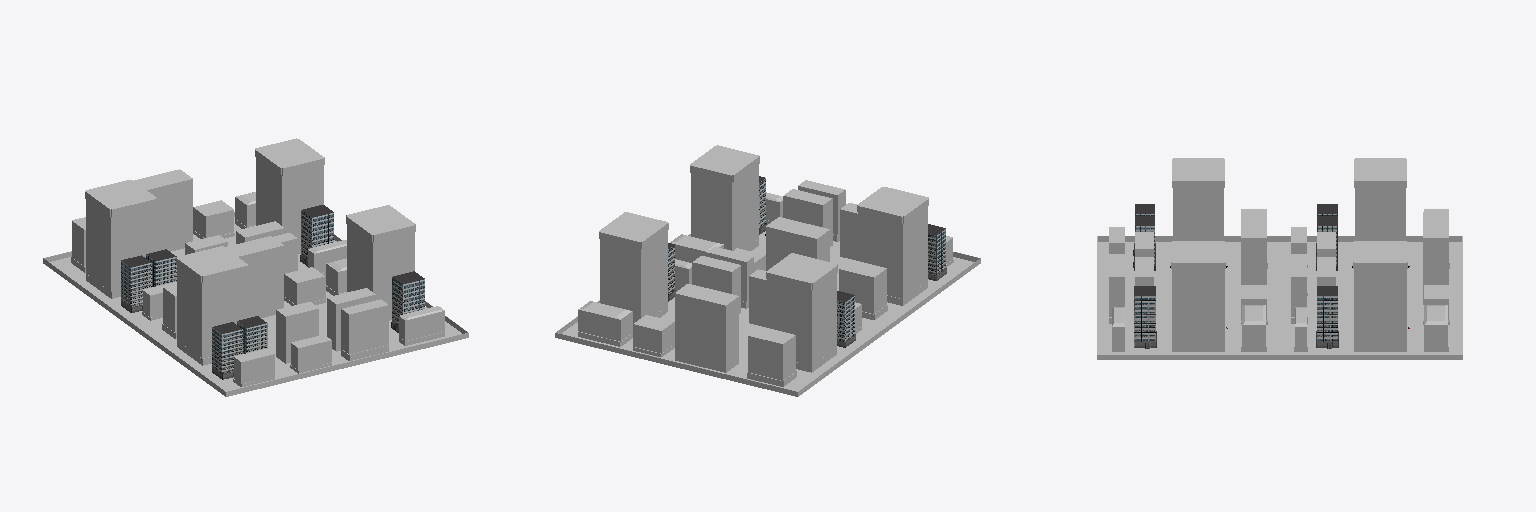
3 renders of one model, left to right at view 1: azimuth 30°, elevation 25°; view 2: azimuth 150°, elevation 25°; view 3: azimuth 270°, elevation 25°, orthographic.
Parts seen in each view (by area): view 1: Box087, Box087.001, Box072.001, Box072, Box086.001, Box086, Plane001, Box079, Box076, Plane001.001, Box075, Box067 (+19 smaller); view 2: Box087.001, Box087, Box072.001, Box072, Box086.001, Plane001.001, Box089.001, Box086, Box089, Box090.001, Plane001, Box077 (+10 smaller); view 3: Plane001.001, Plane001, Box072, Box072.001, Box087, Box087.001, Box086.001, Box086, Box085, Box085.001, Box090, Box090.001 (+10 smaller).
Boxes of the visible parts, box(x1,y1,x2,y2) form: Box087: box(176, 246, 248, 365); Box087.001: box(85, 180, 156, 298); Box072.001: box(255, 138, 324, 253); Box072: box(346, 205, 415, 320); Box086.001: box(134, 169, 192, 251); Box086: box(225, 236, 283, 317); Plane001: box(141, 291, 461, 391); Box079: box(341, 299, 388, 360); Box076: box(276, 302, 318, 363); Plane001.001: box(47, 217, 336, 328); Box075: box(399, 306, 444, 345); Box067: box(212, 322, 242, 379); Box087.001: box(766, 253, 837, 372); Box087: box(857, 187, 928, 305); Box072.001: box(599, 212, 668, 323); Box072: box(690, 145, 759, 250); Box086.001: box(675, 284, 738, 372); Plane001.001: box(562, 297, 882, 391); Box089.001: box(747, 326, 796, 386); Box086: box(766, 217, 829, 270); Box089: box(839, 260, 887, 319); Box090.001: box(578, 301, 632, 346); Plane001: box(751, 231, 976, 328); Box077: box(783, 189, 832, 246); Plane001.001: box(1279, 242, 1461, 354); Plane001: box(1098, 242, 1278, 354); Box072: box(1171, 241, 1225, 351); Box072.001: box(1353, 241, 1407, 351); Box087: box(1172, 158, 1224, 240); Box087.001: box(1354, 158, 1406, 240); Box086.001: box(1423, 212, 1448, 304); Box086: box(1241, 212, 1266, 284); Box085: box(1134, 286, 1156, 348); Box085.001: box(1316, 286, 1338, 348); Box090: box(1241, 305, 1266, 351); Box090.001: box(1424, 305, 1448, 351).
Size of the model in its own units: 245 by 87.27 by 320.
Materials: 24 (2 with a texture image).